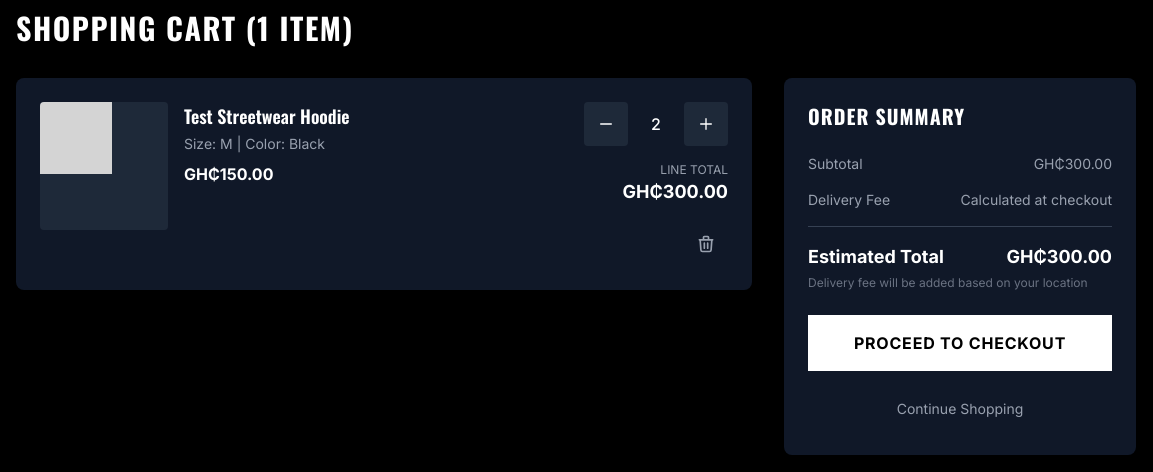
Test: CartPage › Quantity Controls (Requirements: 1.2) › increments quantity when plus button is clicked
Click the button named "increase quantity". click: coordinates (706, 124)
box: x1=684 y1=102 x2=728 y2=146
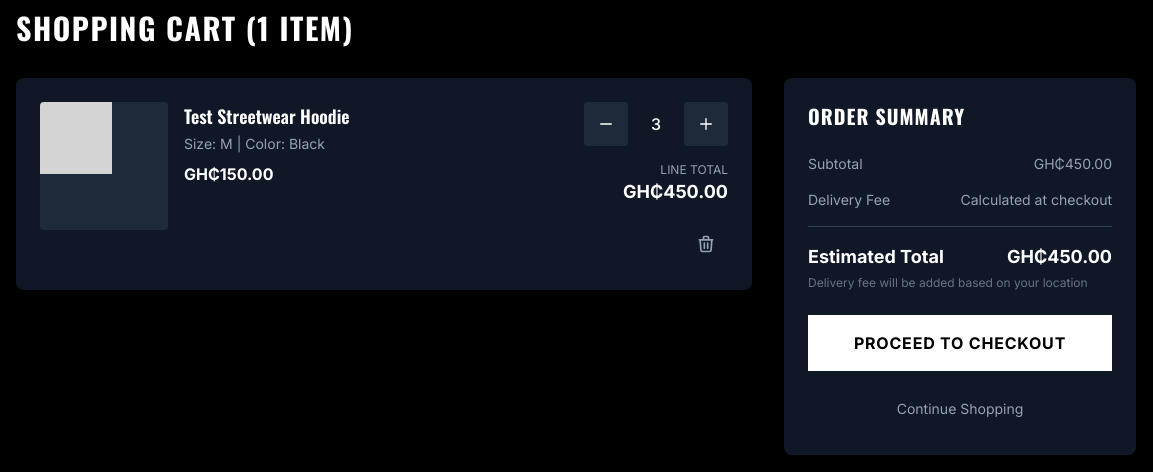
Expected: the text "3" is shown, x1=651 y1=114 x2=661 y2=134
